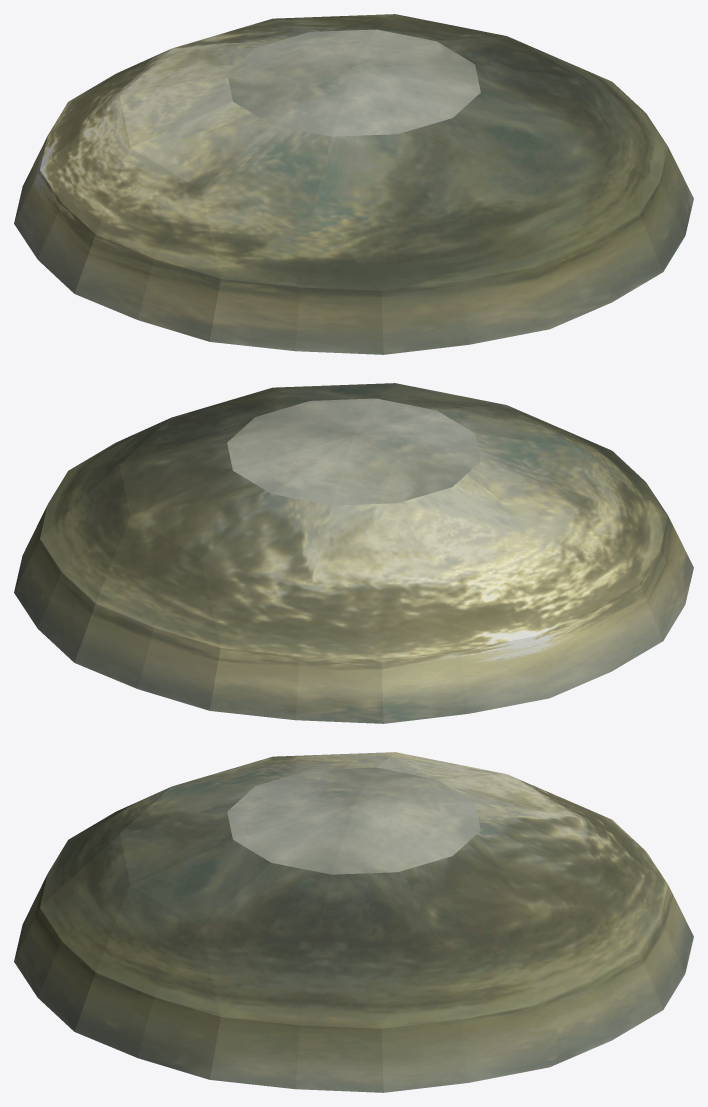
The model's file is recovered_map_mp72.glb.
The picture shows the model from 3 angles, top to bottom: view 1: azimuth 30°, elevation 25°; view 2: azimuth 150°, elevation 25°; view 3: azimuth 270°, elevation 25°; orthographic projection.
Visible parts, largest first — view 1: S_congo4s_sky01, S_congo4s_skycap01; view 2: S_congo4s_sky01, S_congo4s_skycap01; view 3: S_congo4s_sky01, S_congo4s_skycap01.
Boxes of the visible parts, x1=… form: S_congo4s_sky01: x1=14, y1=14, x2=693, y2=354; S_congo4s_skycap01: x1=227, y1=29, x2=480, y2=136; S_congo4s_sky01: x1=14, y1=383, x2=693, y2=723; S_congo4s_skycap01: x1=227, y1=398, x2=480, y2=505; S_congo4s_sky01: x1=14, y1=752, x2=693, y2=1092; S_congo4s_skycap01: x1=227, y1=767, x2=480, y2=874.
Size of what is drawn, in the model's own units: 747 by 232 by 747.
82 materials, 82 textured.
